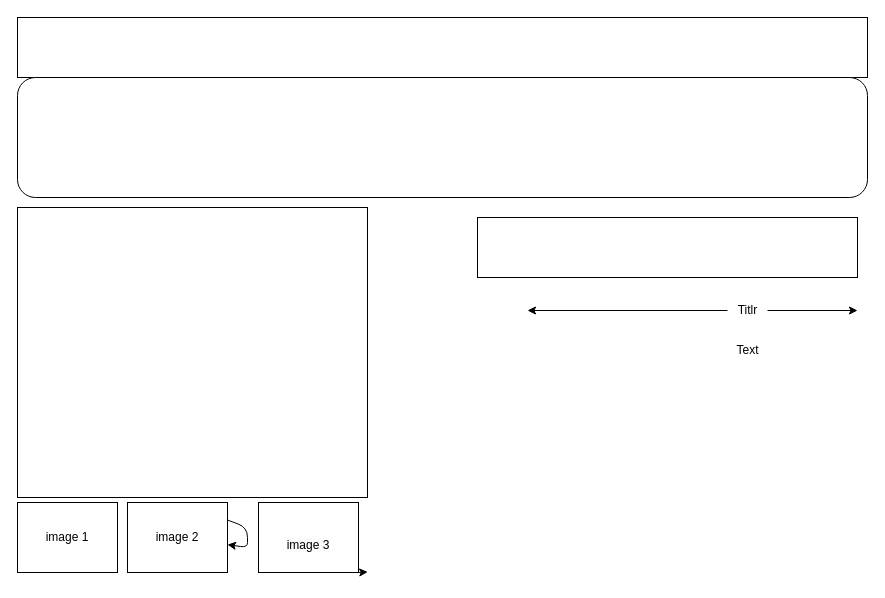
The diagram is 885 pixels wide and 598 high, and some of its shapes have lost their labels. Each missing label, with the centre of its shape:
about product title: the point at 667,247
product name: the point at 442,137
